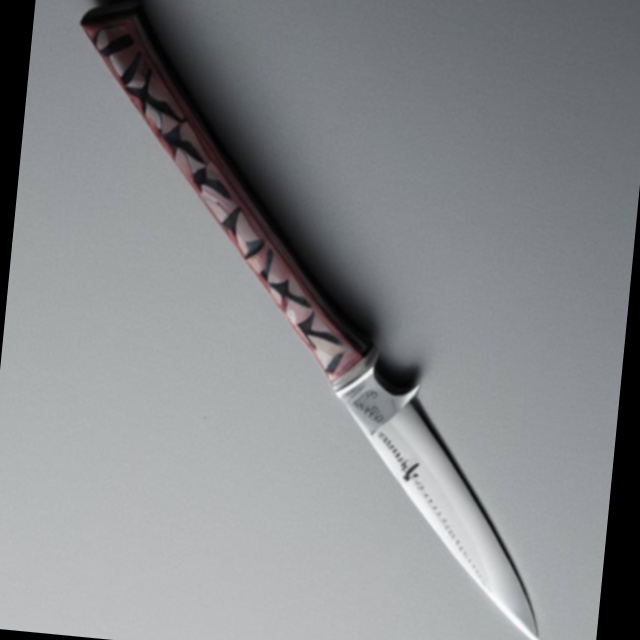Sharp-Object: (20, 0, 603, 640)
